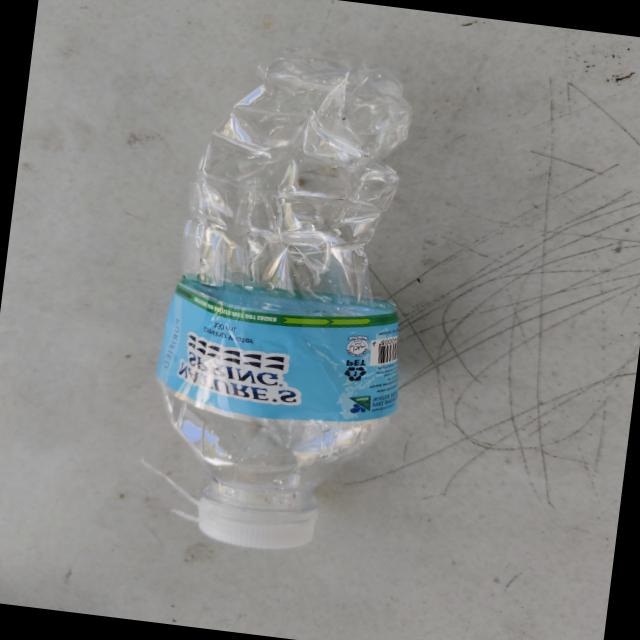Bottle: (141, 55, 410, 549)
